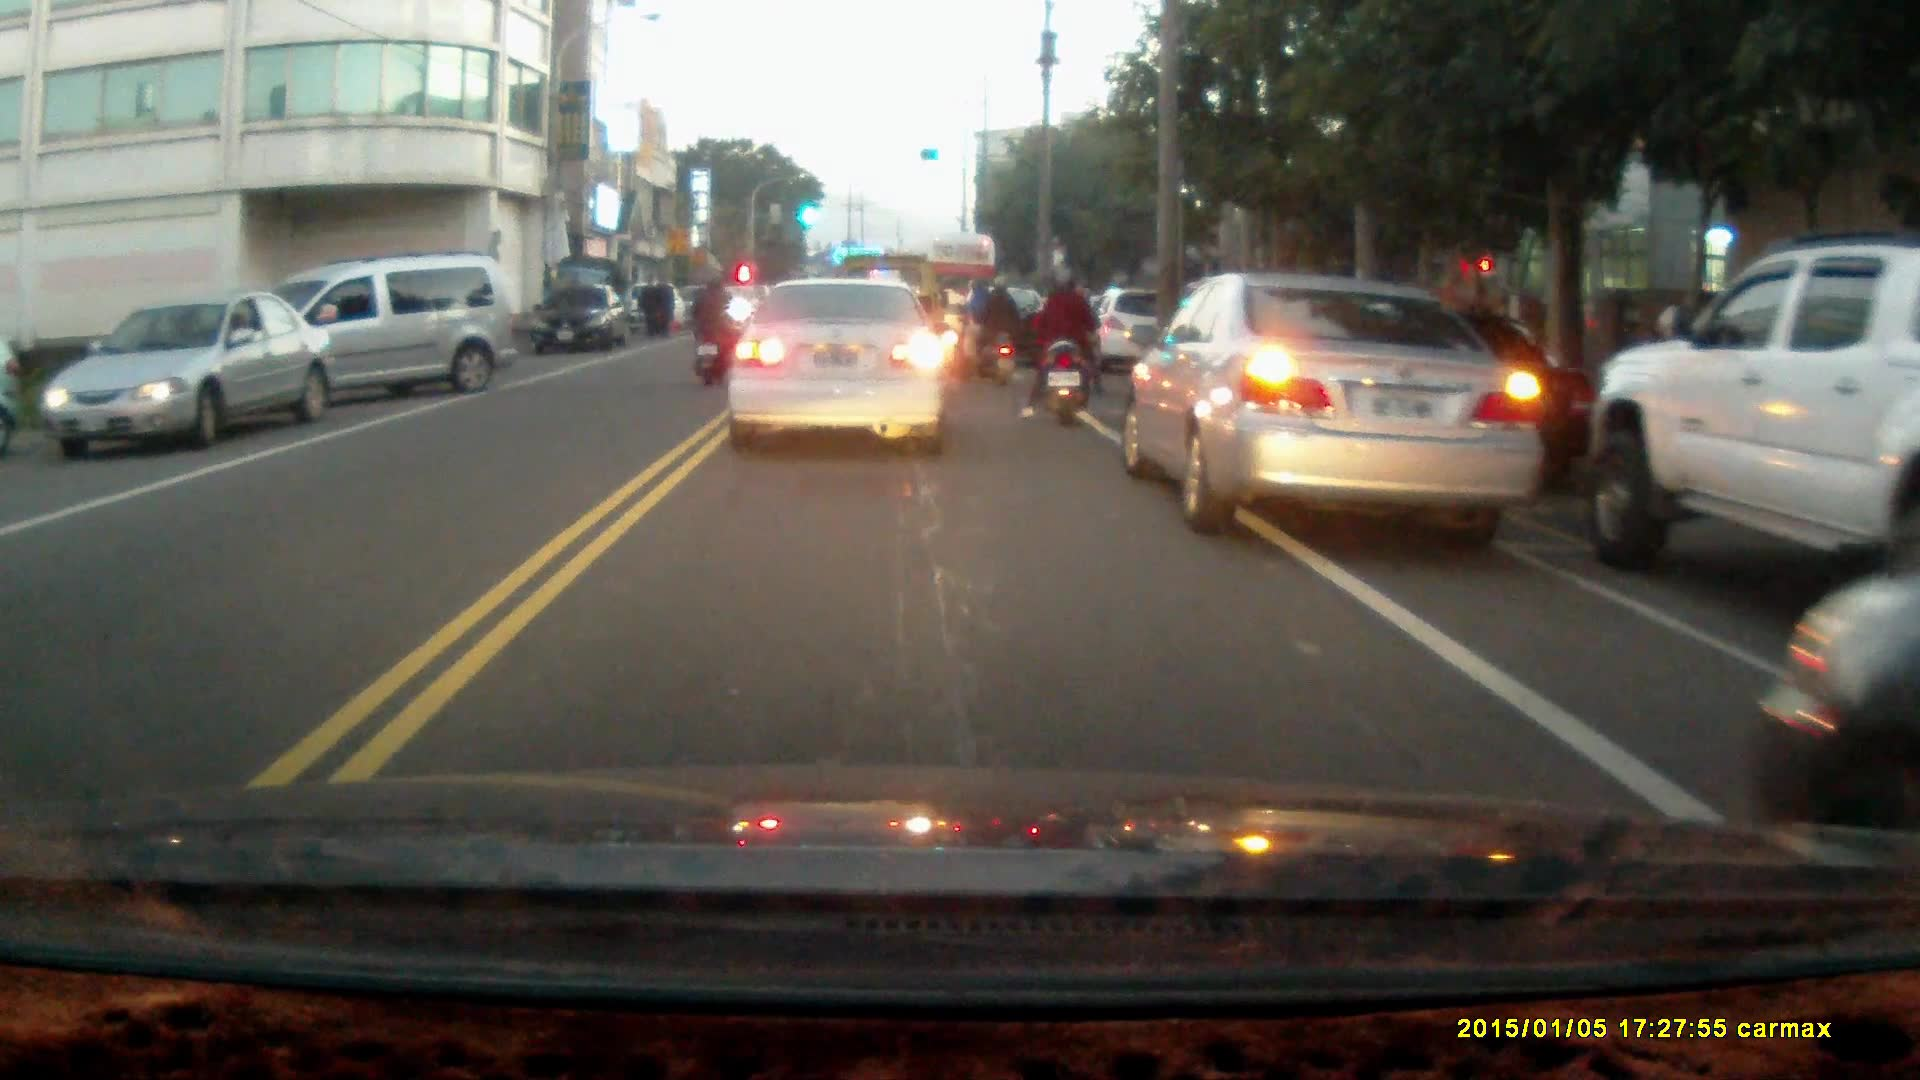pedestrian: (636, 272, 661, 338), (653, 273, 674, 335)
rider: (1020, 265, 1105, 428), (956, 269, 1023, 386), (689, 276, 734, 386)
vehicle: (1581, 235, 1920, 589), (1119, 267, 1539, 539), (217, 254, 523, 420), (1746, 567, 1920, 851), (51, 293, 333, 453), (725, 276, 951, 461), (532, 281, 631, 354)
